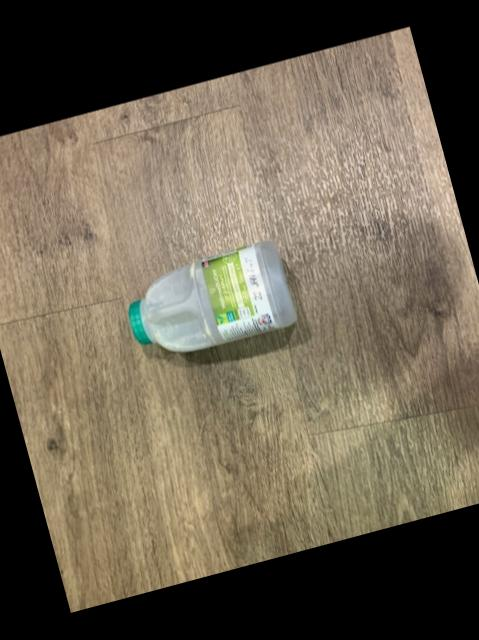plastic: (126, 244, 293, 353)
